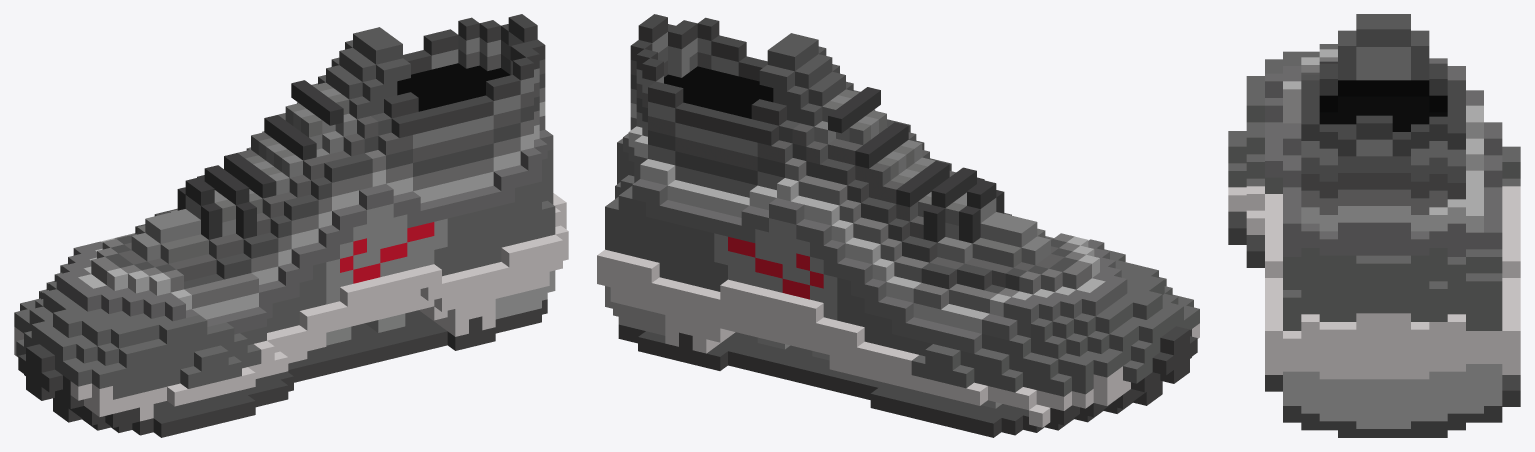
File: Silver Ruby.fbx
3 renders of one model, left to right at view 1: azimuth 30°, elevation 25°; view 2: azimuth 150°, elevation 25°; view 3: azimuth 270°, elevation 25°, orthographic. The views are drawn at different scales.
Visible parts, largest first — view 1: Untitled; view 2: Untitled; view 3: Untitled.
Part boxes in pixels (<box>): Untitled: <box>14,14,568,437</box>; Untitled: <box>597,14,1199,437</box>; Untitled: <box>1228,14,1520,437</box>.
Size of the model in its own units: 390 by 200 by 160.
